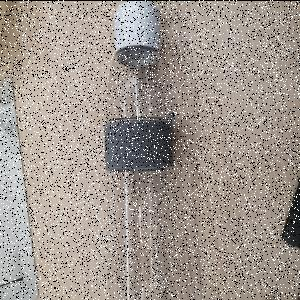Plastic-bottle: (105, 1, 175, 300)
